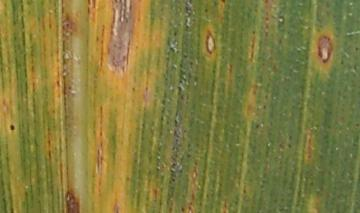tarspot: (10, 125, 15, 130)
